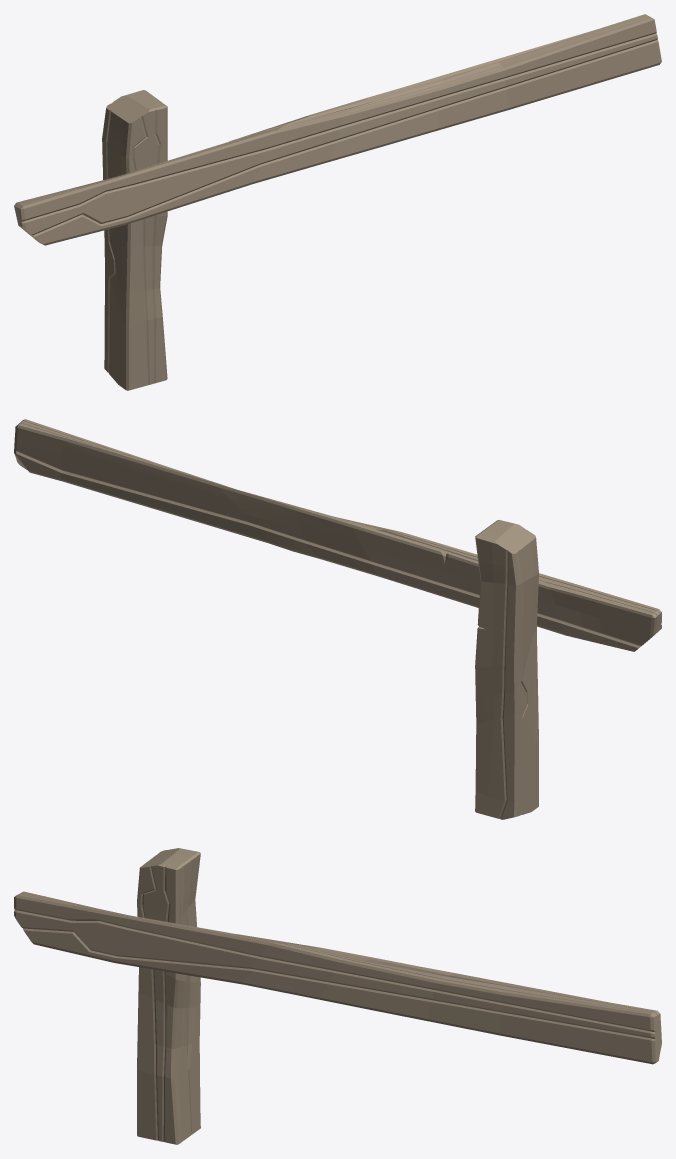
The model's file is fence00.fbx.
The picture shows the model from 3 angles, top to bottom: view 1: azimuth 30°, elevation 25°; view 2: azimuth 150°, elevation 25°; view 3: azimuth 330°, elevation 25°; orthographic projection.
Visible parts, largest first — view 1: planche16; view 2: planche16; view 3: planche16.
Part boxes in pixels (x1,y1,x2,y2): planche16: [14, 14, 661, 390]; planche16: [14, 419, 661, 819]; planche16: [14, 848, 661, 1144].
Size of the model in its own units: 36.5 by 15.06 by 3.39.
